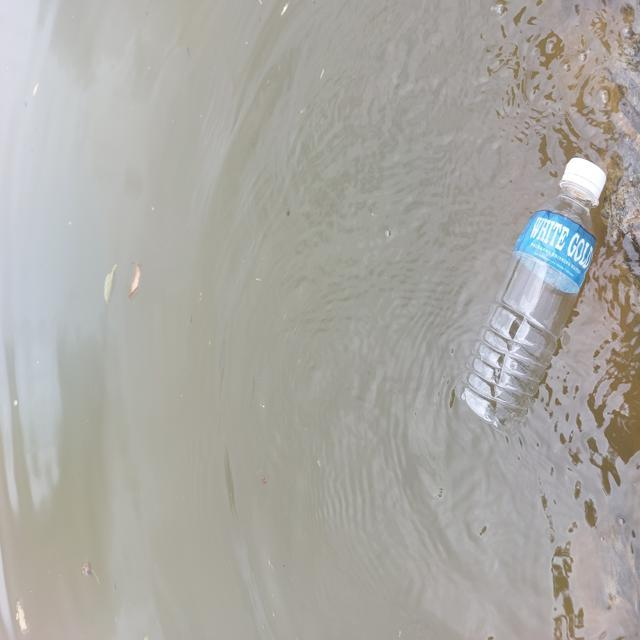waterbottle: (455, 134, 634, 461)
